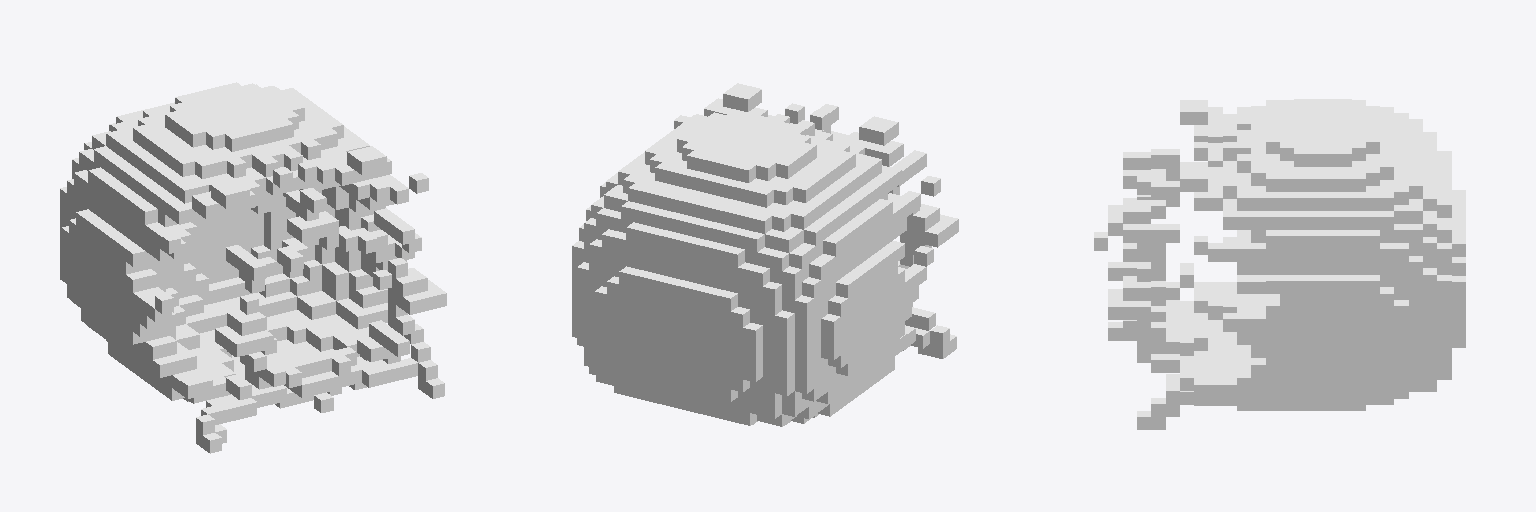
File: PookaPopFront.obj
3 renders of one model, left to right at view 1: azimuth 30°, elevation 25°; view 2: azimuth 150°, elevation 25°; view 3: azimuth 270°, elevation 25°, orthographic.
Parts seen in each view (by area): view 1: object 1; view 2: object 1; view 3: object 1.
Boxes of the visible parts, x1=… form: object 1: x1=60, y1=82, x2=446, y2=453; object 1: x1=572, y1=83, x2=958, y2=426; object 1: x1=1094, y1=99, x2=1465, y2=429.
Bounding box in the file's own units: 2.1 × 2 × 2.6.